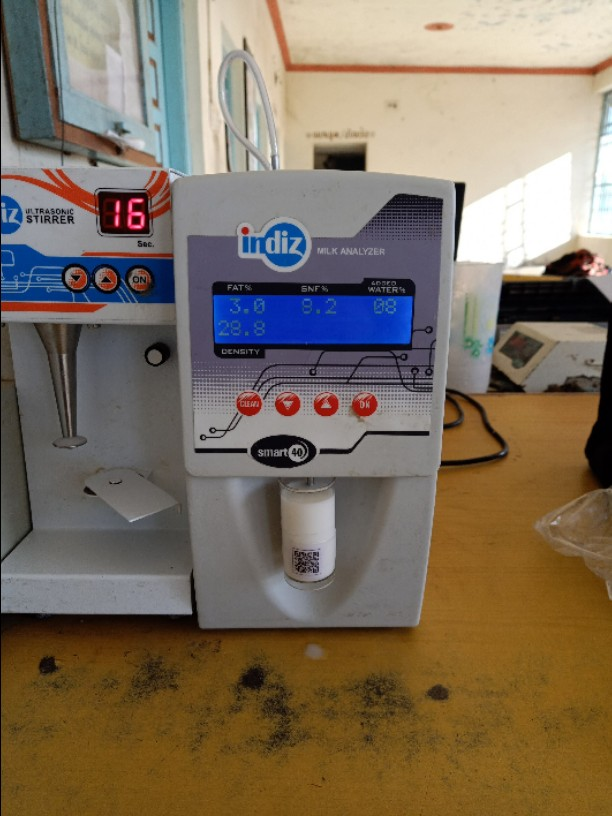lcd: (211, 285, 416, 352)
qr: (289, 547, 324, 580)
